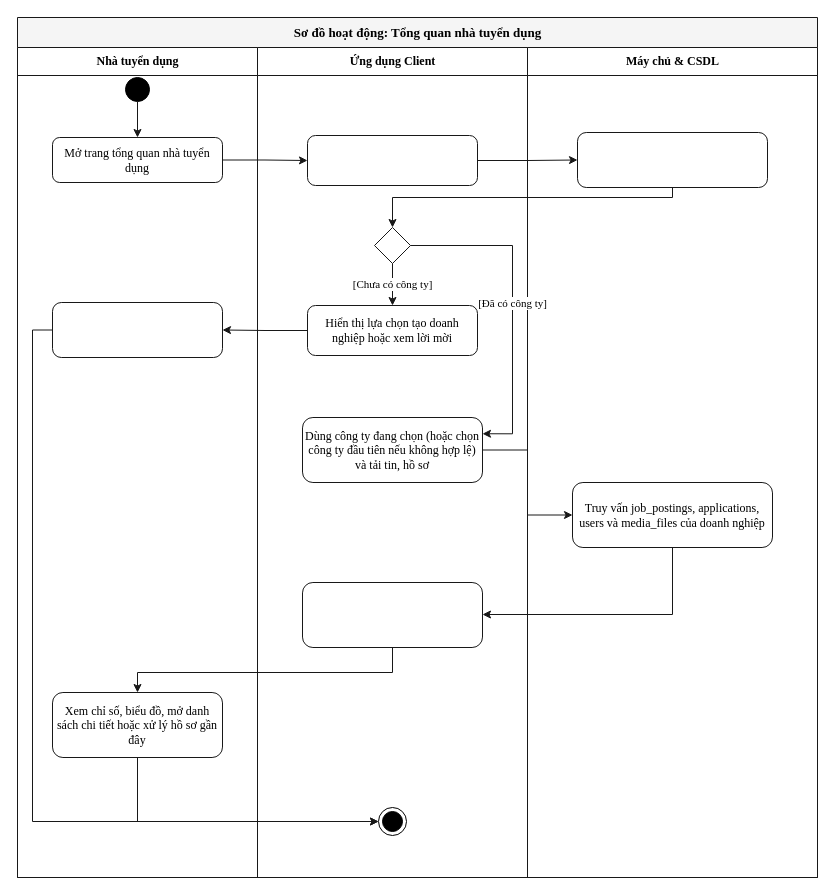
This 835x895 diagram has some shape labels left out. The centre of each missing label's shape, as x and y in pixels:
"Chọn tạo doanh nghiệp mới hoặc xem lời mời" belongs at pixel 137 330.
"Truy vấn companies và company_memberships của tài khoản" belongs at pixel 672 160.
"Truy vấn danh sách doanh nghiệp của tài khoản" belongs at pixel 392 160.
"Tổng hợp chỉ số, vẽ biểu đồ phân bố và xu hướng (hoặc giá trị mẫu nếu trống)" belongs at pixel 392 615.
